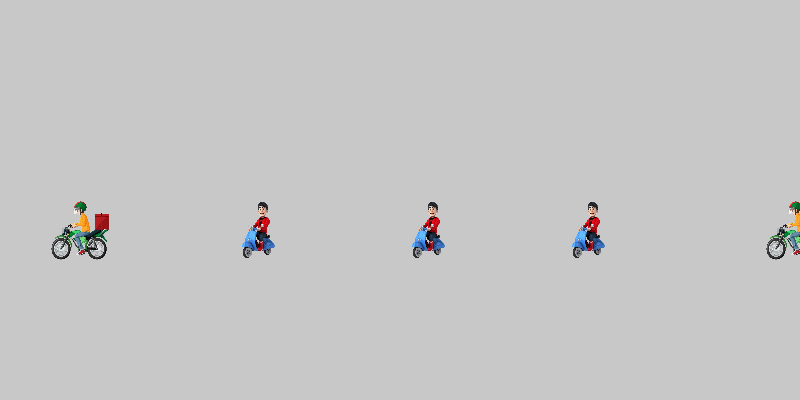helmet: (50, 200, 110, 260), (765, 200, 800, 260)
no_helmet: (230, 200, 290, 260), (400, 200, 460, 260), (560, 200, 620, 260)
